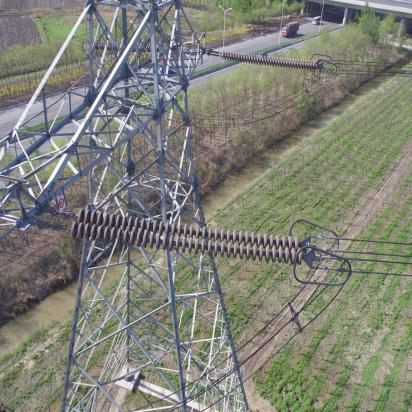insulator: (54, 207, 307, 267), (223, 50, 319, 71)
